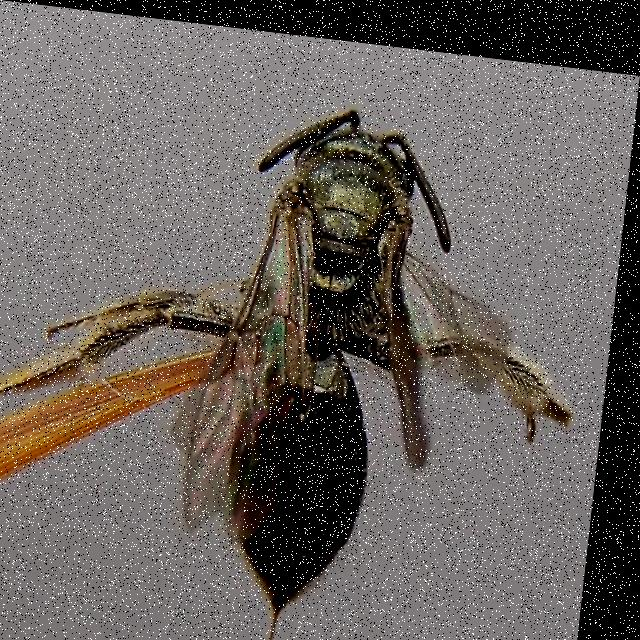Lasioglossum: (0, 61, 613, 639)
